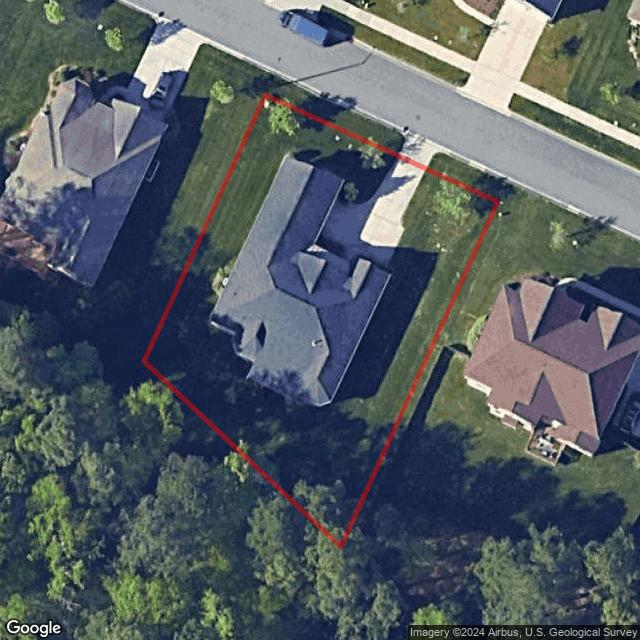Driveway: (315, 155, 429, 268)
Extra-Driveway: (398, 132, 442, 170)
Extra-Lawn: (265, 74, 405, 156), (427, 152, 509, 200)
House: (206, 153, 393, 412)
Lawn: (145, 94, 498, 547)
